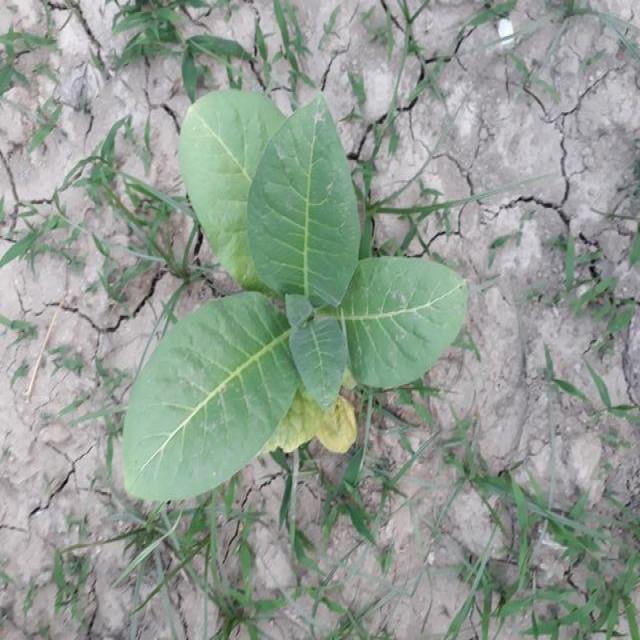crop: (128, 90, 466, 498)
